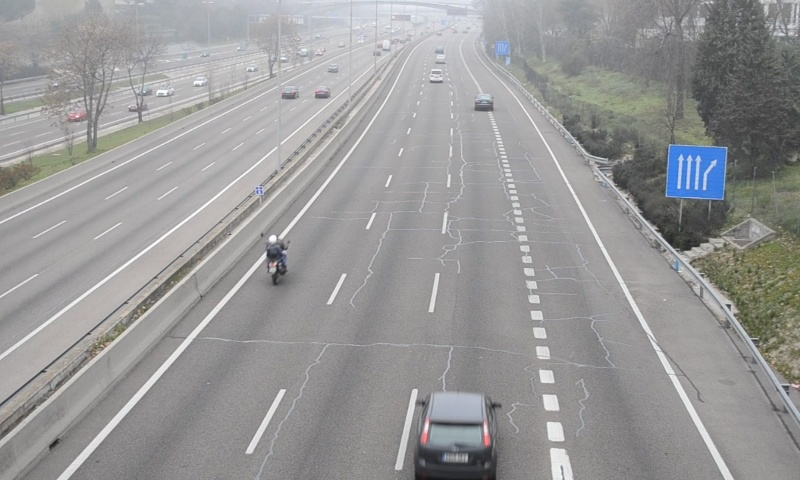car: (414, 391, 496, 480), (474, 93, 493, 111), (428, 69, 444, 84)
motorcycle: (263, 233, 289, 284)
